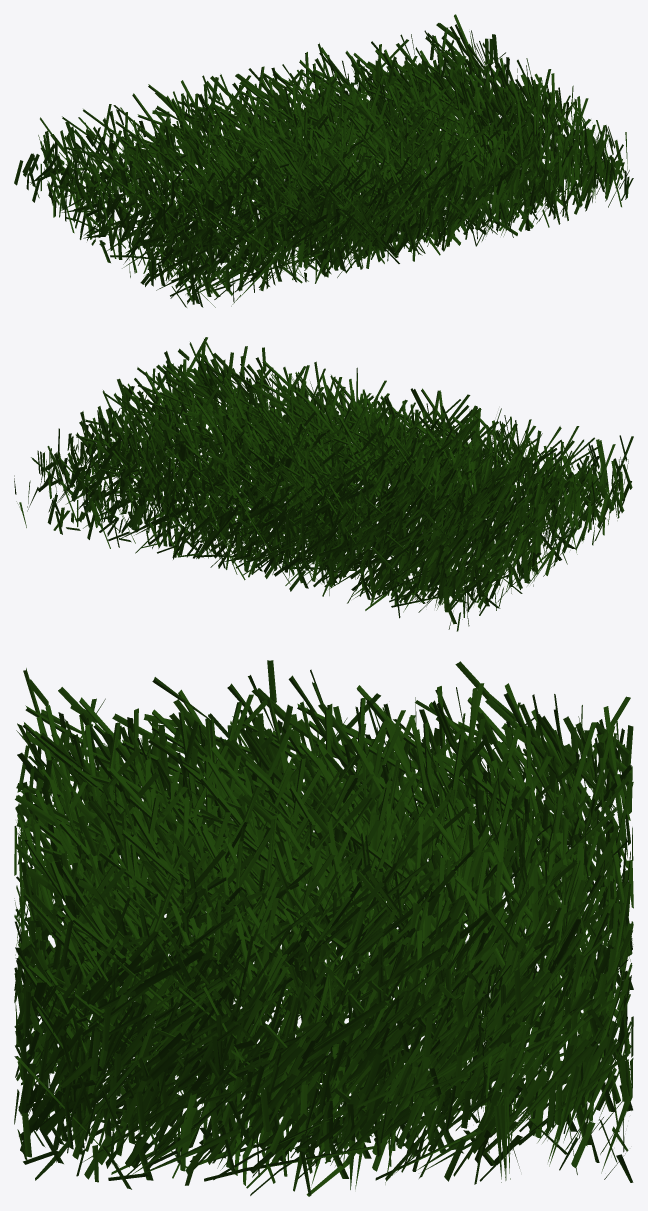
File: grass-block.obj
3 renders of one model, top to bottom at view 1: azimuth 30°, elevation 25°; view 2: azimuth 150°, elevation 25°; view 3: azimuth 270°, elevation 25°, orthographic. The views are drawn at different scales.
Parts seen in each view (by area): view 1: weed14.weed15.weed16.weed17.weed18.weed19.weed20.weed21_weed14; view 2: weed14.weed15.weed16.weed17.weed18.weed19.weed20.weed21_weed14; view 3: weed14.weed15.weed16.weed17.weed18.weed19.weed20.weed21_weed14.
Boxes of the visible parts, bbox=[...] form: weed14.weed15.weed16.weed17.weed18.weed19.weed20.weed21_weed14: bbox=[14, 14, 633, 307]; weed14.weed15.weed16.weed17.weed18.weed19.weed20.weed21_weed14: bbox=[14, 337, 633, 631]; weed14.weed15.weed16.weed17.weed18.weed19.weed20.weed21_weed14: bbox=[14, 660, 633, 1196].
Size of the model in its own units: 3.87 by 0.6011 by 2.51.
